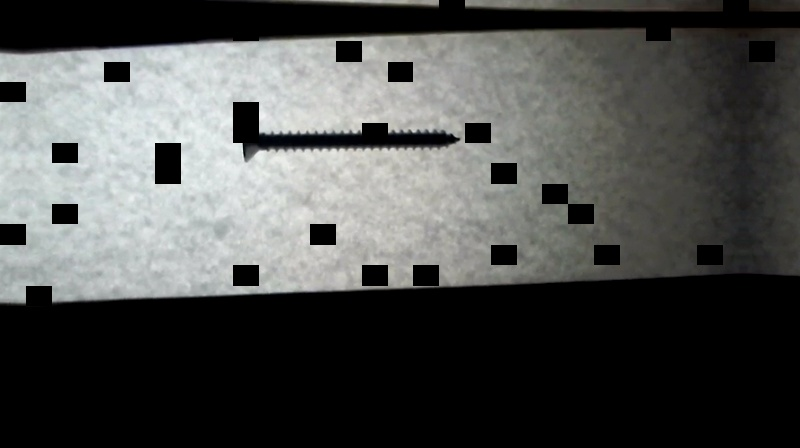S002: (238, 116, 463, 164)
